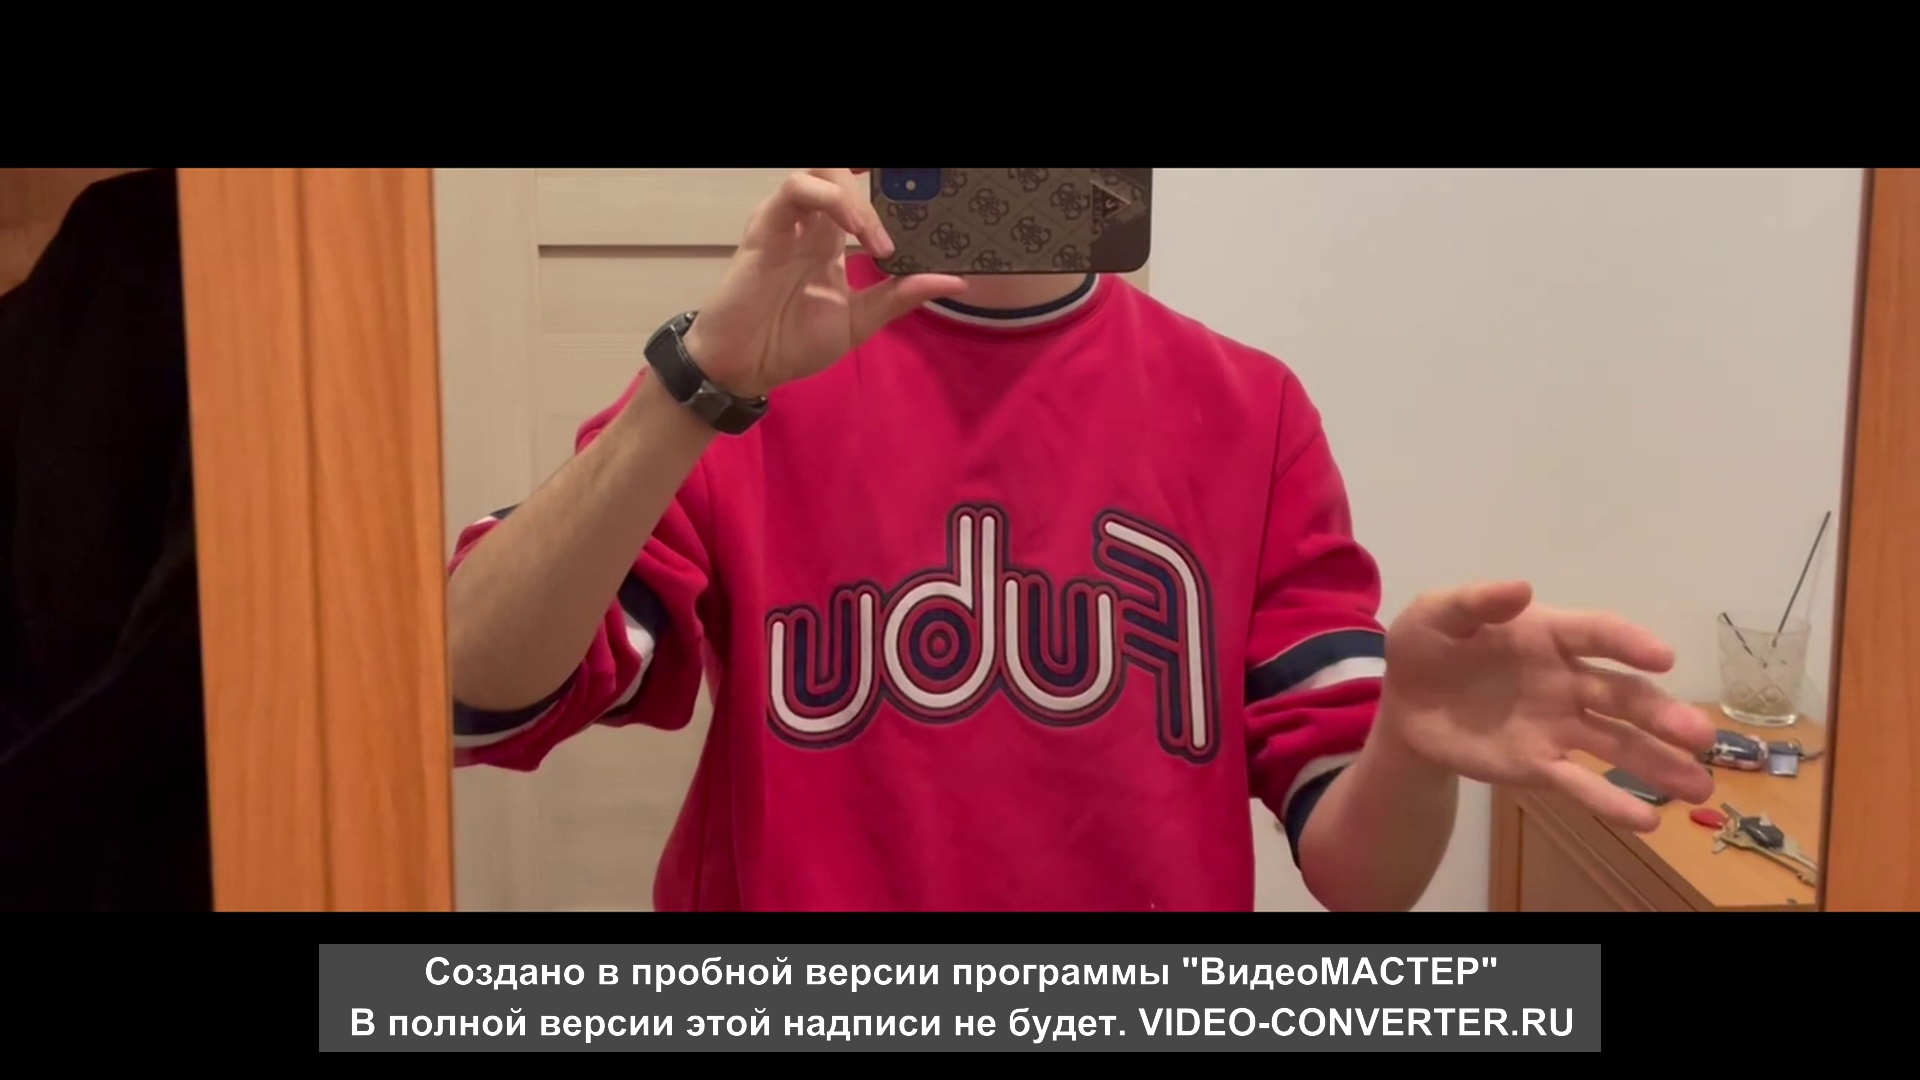Ладонь: (1386, 582, 1713, 831)
